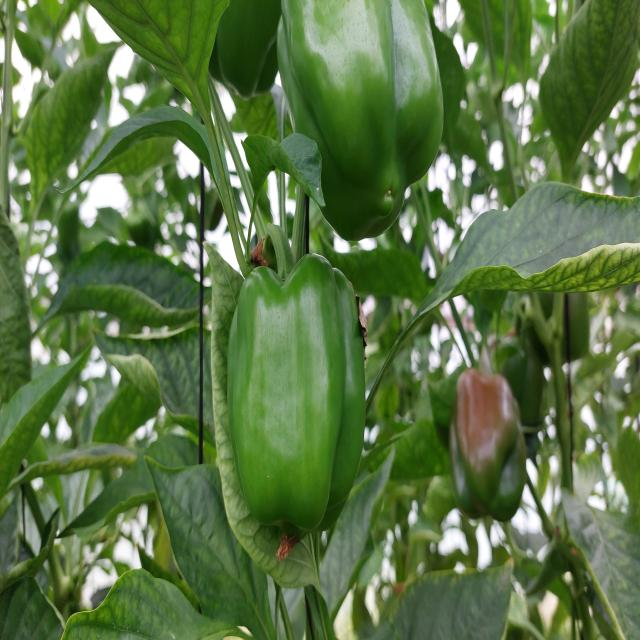BrownishRed--Can-be-Harvested: (448, 363, 524, 521)
Green--Not-ready-to-harvest: (282, 0, 447, 242), (233, 268, 366, 537), (205, 0, 279, 102)
